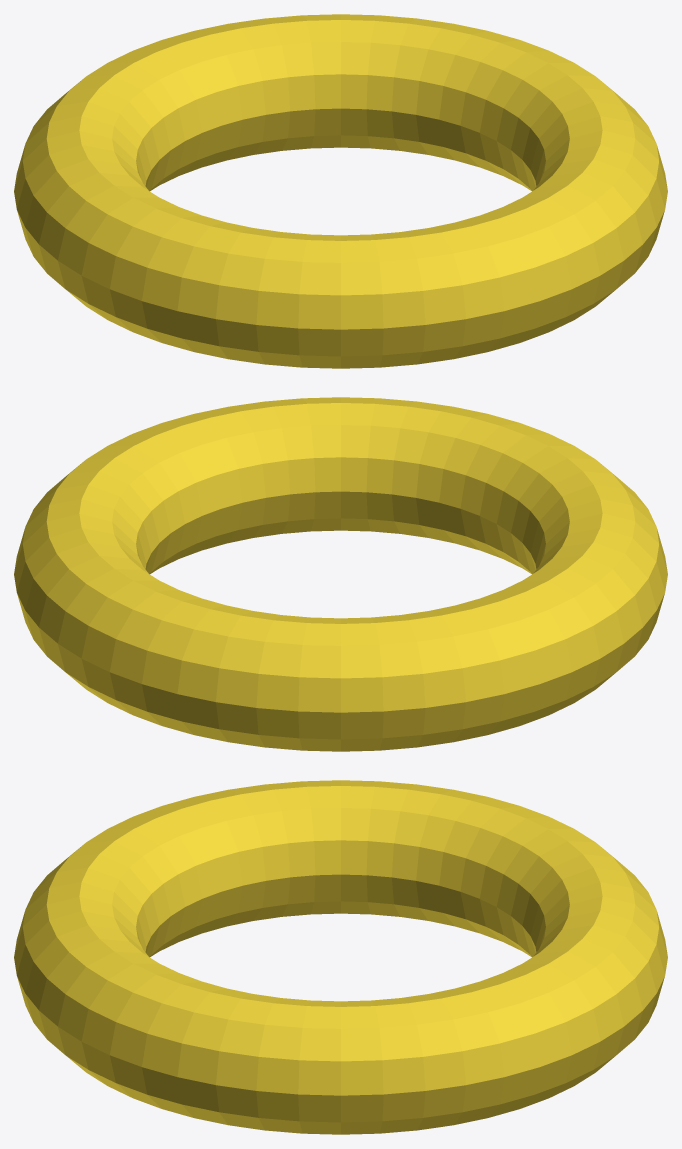
Rendered from ring 4.fbx.
The picture shows the model from 3 angles, top to bottom: view 1: azimuth 30°, elevation 25°; view 2: azimuth 150°, elevation 25°; view 3: azimuth 270°, elevation 25°; orthographic projection.
Parts seen in each view (by area): view 1: ring 4; view 2: ring 4; view 3: ring 4.
Boxes of the visible parts, x1=… form: ring 4: x1=14, y1=14, x2=667, y2=368; ring 4: x1=14, y1=397, x2=667, y2=751; ring 4: x1=14, y1=780, x2=667, y2=1134.
Size of the model in its own units: 107 by 21.96 by 107.
